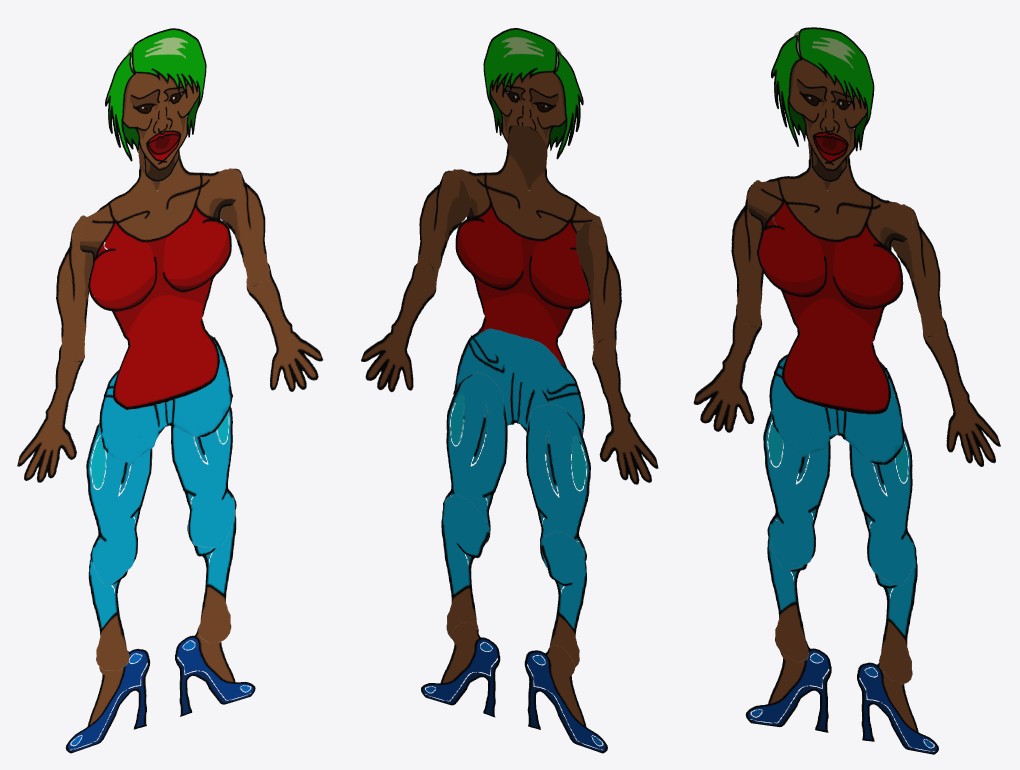
File: skinny_girl.FBX
3 views of the same model, side by side, from view 1: azimuth 30°, elevation 25°; view 2: azimuth 150°, elevation 25°; view 3: azimuth 330°, elevation 25° (orthographic). The views are drawn at different scales.
Parts seen in each view (by area): view 1: skinnygirl_torso, skinnygirl_head, skinnygirl_leg_upper_R, skinnygirl_hips, skinnygirl_leg_upper_L, skinnygirl_arm_lower_L, skinnygirl_arm_upper_R, skinnygirl_arm_lower_R, skinnygirl_foot_R, skinnygirl_foot_L, skinnygirl_arm_upper_L, skinnygirl_leg_lower_L (+1 smaller); view 2: skinnygirl_torso, skinnygirl_head, skinnygirl_hips, skinnygirl_leg_upper_R, skinnygirl_leg_upper_L, skinnygirl_leg_lower_L, skinnygirl_foot_R, skinnygirl_arm_lower_R, skinnygirl_arm_lower_L, skinnygirl_arm_upper_R, skinnygirl_leg_lower_R, skinnygirl_foot_L (+1 smaller); view 3: skinnygirl_torso, skinnygirl_head, skinnygirl_hips, skinnygirl_leg_upper_R, skinnygirl_leg_upper_L, skinnygirl_arm_lower_L, skinnygirl_foot_R, skinnygirl_arm_lower_R, skinnygirl_foot_L, skinnygirl_arm_upper_L, skinnygirl_arm_upper_R, skinnygirl_leg_lower_L (+1 smaller).
Boxes of the visible parts, box(x1,y1,x2,y2) form: skinnygirl_torso: box(80, 146, 240, 409); skinnygirl_head: box(105, 28, 206, 181); skinnygirl_leg_upper_R: box(86, 422, 152, 585); skinnygirl_hips: box(99, 335, 232, 464); skinnygirl_leg_upper_L: box(171, 406, 236, 548); skinnygirl_arm_lower_L: box(246, 263, 322, 391); skinnygirl_arm_upper_R: box(56, 215, 92, 362); skinnygirl_arm_lower_R: box(17, 344, 83, 482); skinnygirl_foot_R: box(65, 648, 150, 753); skinnygirl_foot_L: box(175, 625, 255, 716); skinnygirl_arm_upper_L: box(220, 168, 269, 287); skinnygirl_leg_lower_L: box(187, 494, 236, 643); skinnygirl_torso: box(453, 125, 604, 368); skinnygirl_head: box(483, 28, 583, 159); skinnygirl_hips: box(453, 328, 584, 454); skinnygirl_leg_upper_R: box(526, 404, 590, 567); skinnygirl_leg_upper_L: box(443, 372, 507, 544); skinnygirl_leg_lower_L: box(441, 494, 489, 639); skinnygirl_foot_R: box(524, 645, 607, 753); skinnygirl_arm_lower_R: box(592, 339, 658, 484); skinnygirl_arm_lower_L: box(361, 257, 436, 392); skinnygirl_arm_upper_R: box(576, 220, 621, 350); skinnygirl_leg_lower_R: box(540, 531, 586, 667); skinnygirl_foot_L: box(421, 622, 500, 717); skinnygirl_torso: box(748, 142, 912, 414); skinnygirl_head: box(771, 27, 874, 181); skinnygirl_hips: box(769, 354, 905, 464); skinnygirl_leg_upper_R: box(763, 411, 830, 570); skinnygirl_leg_upper_L: box(849, 428, 916, 585); skinnygirl_arm_lower_L: box(922, 317, 1000, 466); skinnygirl_foot_R: box(745, 640, 831, 732); skinnygirl_arm_lower_R: box(693, 304, 762, 432); skinnygirl_foot_L: box(857, 662, 938, 754); skinnygirl_arm_upper_L: box(891, 204, 944, 336); skinnygirl_arm_upper_R: box(731, 180, 776, 327); skinnygirl_leg_lower_L: box(874, 536, 917, 683).
Size of the model in its own units: 20.21 by 44.16 by 0.815.
Materials: 1 (1 with a texture image).
